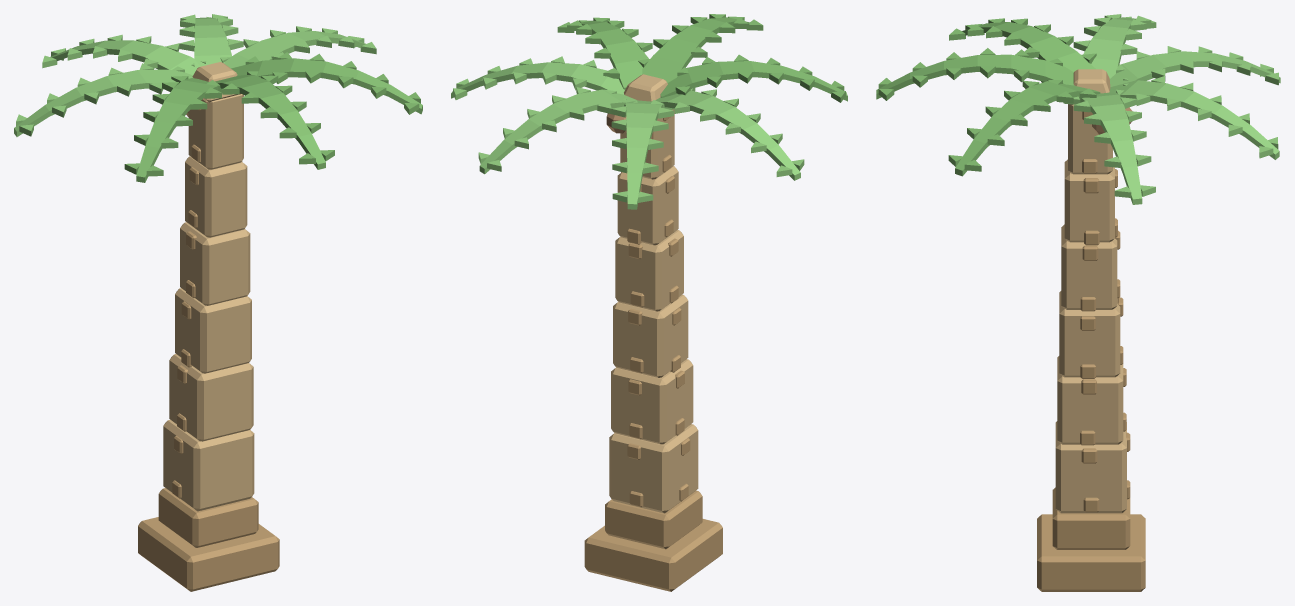
The model's file is DesertPalm.fbx.
The picture shows the model from 3 angles, left to right: view 1: azimuth 30°, elevation 25°; view 2: azimuth 150°, elevation 25°; view 3: azimuth 270°, elevation 25°; orthographic projection. The views are drawn at different scales.
Visible parts, largest first — view 1: DesertPalm.Trunk, DesertPalm.Base, DesertPalm.Fronds, DesertPalm.FrondsBack; view 2: DesertPalm.Trunk, DesertPalm.Fronds, DesertPalm.Base, DesertPalm.FrondsBack; view 3: DesertPalm.Trunk, DesertPalm.Fronds, DesertPalm.Base, DesertPalm.FrondsBack.
Boxes of the visible parts, x1=… form: DesertPalm.Trunk: x1=163, y1=62, x2=254, y2=511; DesertPalm.Base: x1=138, y1=109, x2=279, y2=591; DesertPalm.Fronds: x1=14, y1=14, x2=376, y2=136; DesertPalm.FrondsBack: x1=124, y1=52, x2=422, y2=182; DesertPalm.Trunk: x1=609, y1=74, x2=698, y2=513; DesertPalm.Fronds: x1=451, y1=56, x2=804, y2=209; DesertPalm.Base: x1=584, y1=116, x2=722, y2=591; DesertPalm.FrondsBack: x1=557, y1=14, x2=847, y2=102; DesertPalm.Trunk: x1=1055, y1=69, x2=1126, y2=513; DesertPalm.Fronds: x1=1063, y1=14, x2=1280, y2=204; DesertPalm.Base: x1=1037, y1=111, x2=1145, y2=591; DesertPalm.FrondsBack: x1=876, y1=18, x2=1100, y2=176.
Size of the model in its own units: 8.06 by 10.98 by 7.82.
